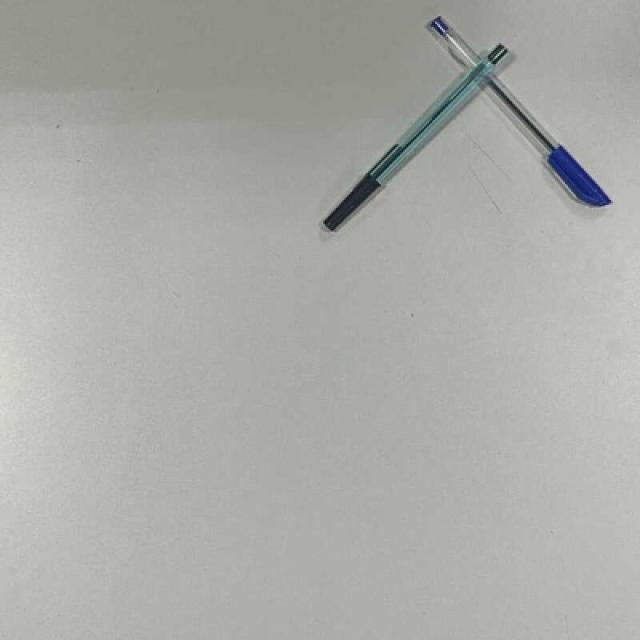caneta: (426, 12, 613, 218), (319, 42, 513, 233)
